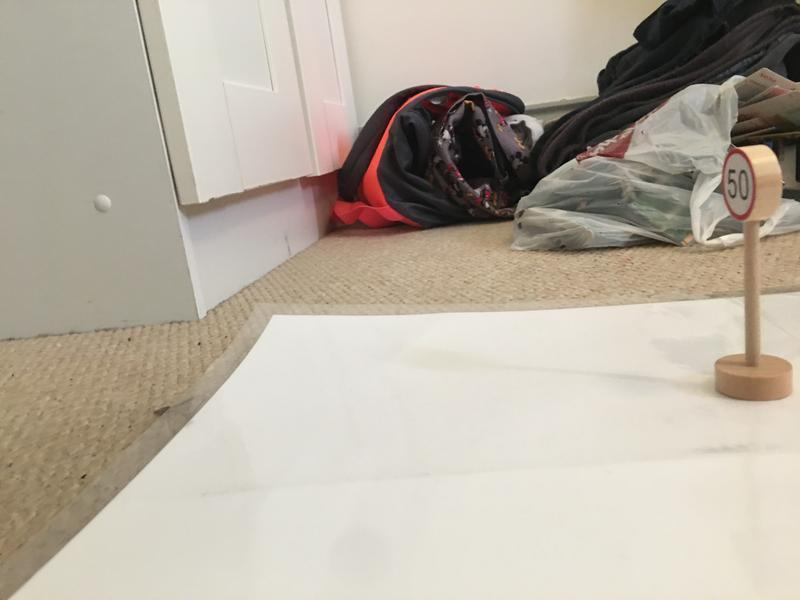Traffic_Sign_50: (725, 147, 755, 220)
